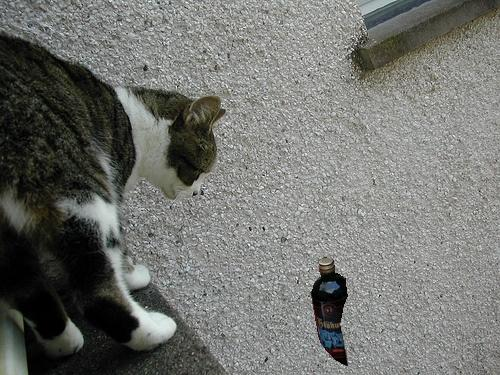tampered: (311, 258, 348, 366)
